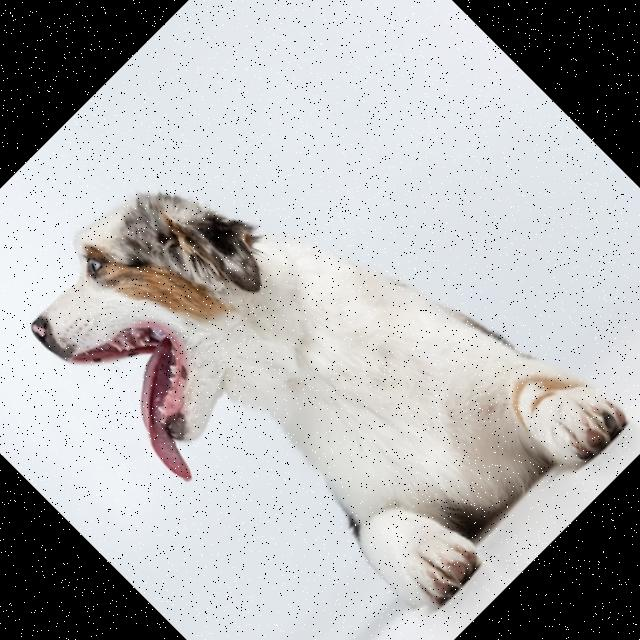Dog: (3, 47, 634, 640)
